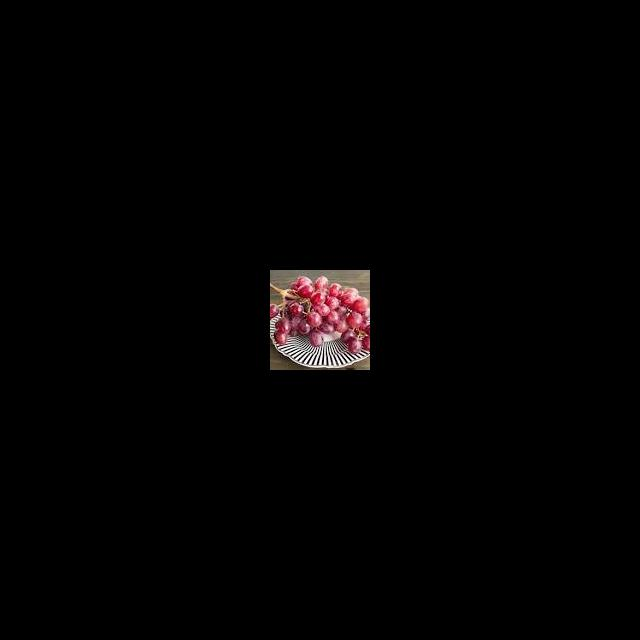grape: (272, 275, 369, 353)
